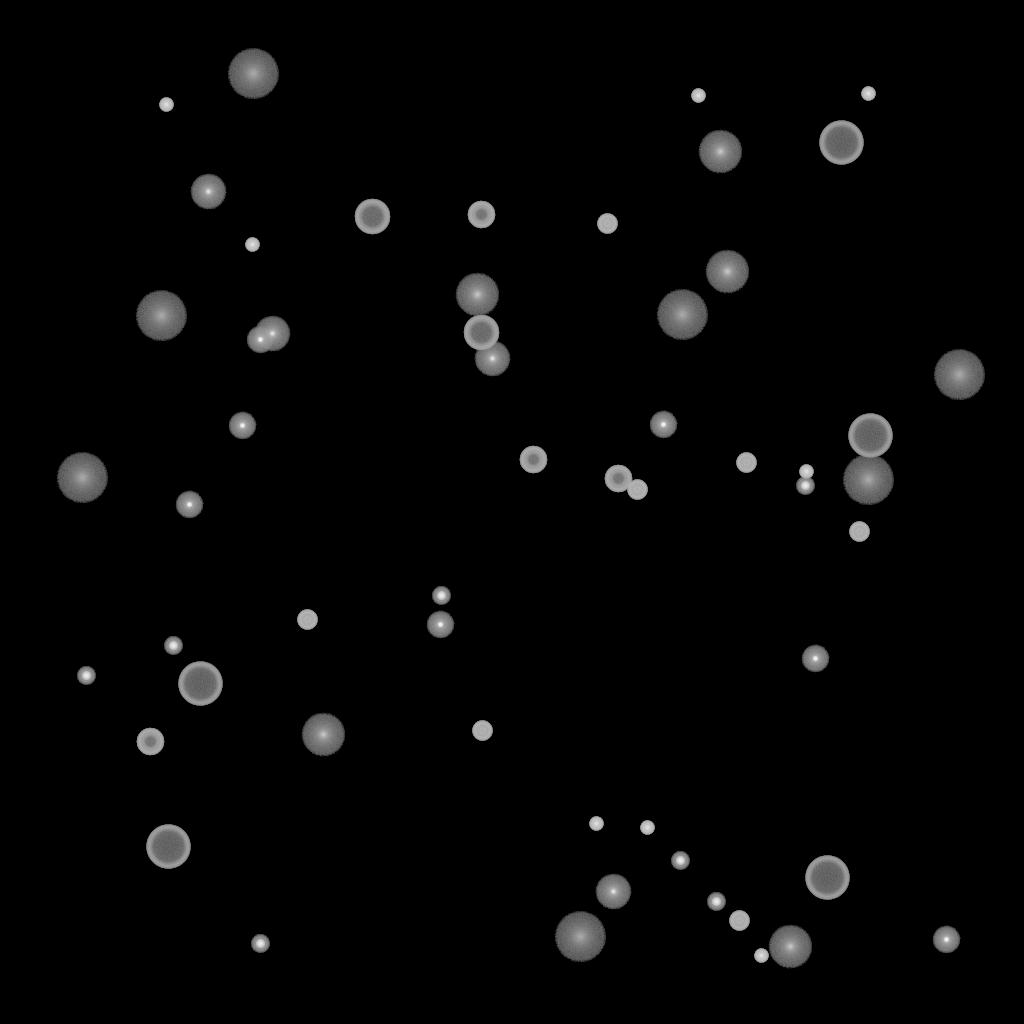depth:-10: (246, 326, 274, 354), (426, 611, 454, 639), (175, 491, 203, 519), (801, 645, 829, 673), (228, 412, 256, 440), (932, 926, 960, 954), (649, 411, 677, 439)
depth:-20: (671, 852, 689, 870), (707, 893, 725, 911), (164, 637, 182, 655), (432, 587, 450, 605), (796, 477, 814, 495), (251, 935, 269, 953), (77, 667, 95, 685)
depth:-30: (640, 821, 654, 835), (691, 89, 705, 103), (799, 465, 813, 479), (754, 949, 768, 963), (159, 98, 173, 112), (861, 87, 875, 101), (245, 238, 259, 252), (589, 817, 603, 831)
depth:-40: (597, 214, 617, 234), (849, 522, 869, 542), (297, 610, 317, 630), (627, 480, 647, 500), (472, 721, 492, 741), (736, 453, 756, 473), (729, 911, 749, 931)
depth:-50: (136, 728, 164, 756), (604, 465, 632, 493), (519, 446, 547, 474), (467, 201, 495, 229)
depth:-60: (354, 199, 390, 235), (463, 315, 499, 351)
depth:-70: (819, 121, 863, 165), (178, 662, 222, 706), (146, 825, 190, 869), (805, 856, 849, 900), (848, 414, 892, 458)
depth:0: (254, 316, 290, 352), (190, 174, 226, 210), (474, 341, 510, 377), (595, 874, 631, 910)
depth:10: (768, 925, 812, 969), (301, 713, 345, 757), (698, 130, 742, 174), (705, 250, 749, 294), (455, 273, 499, 317)
depth:20: (554, 912, 606, 962), (227, 49, 279, 99), (56, 453, 108, 503), (135, 291, 187, 341), (656, 290, 708, 340), (933, 350, 985, 400), (842, 455, 894, 505)
